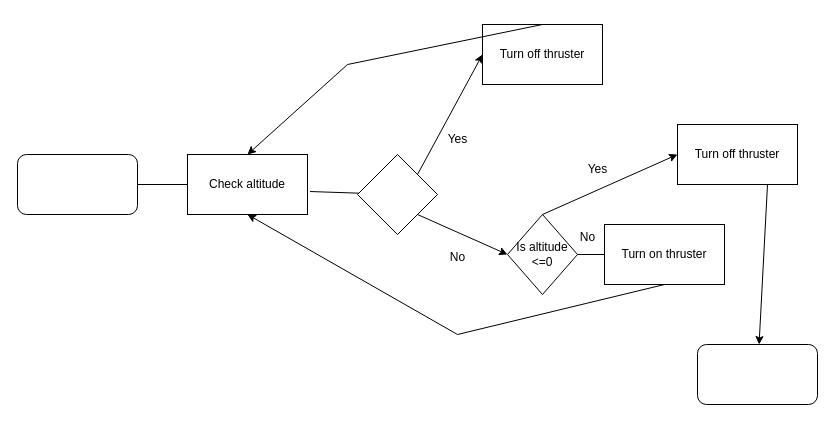
This 835x422 diagram has some shape labels left out. Each missing label, with the centre of its shape:
"End" belongs at [757,374].
"Is altitude <100?" belongs at [397,194].
"Start" belongs at [77,184].
